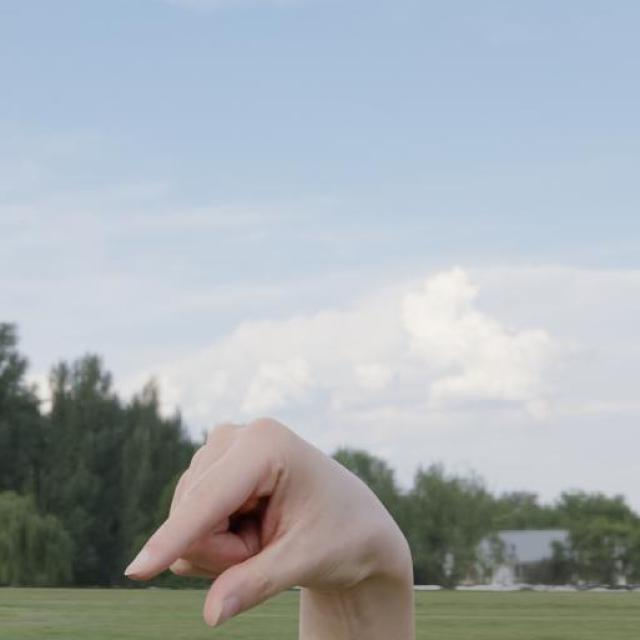Q: (120, 412, 415, 632)
